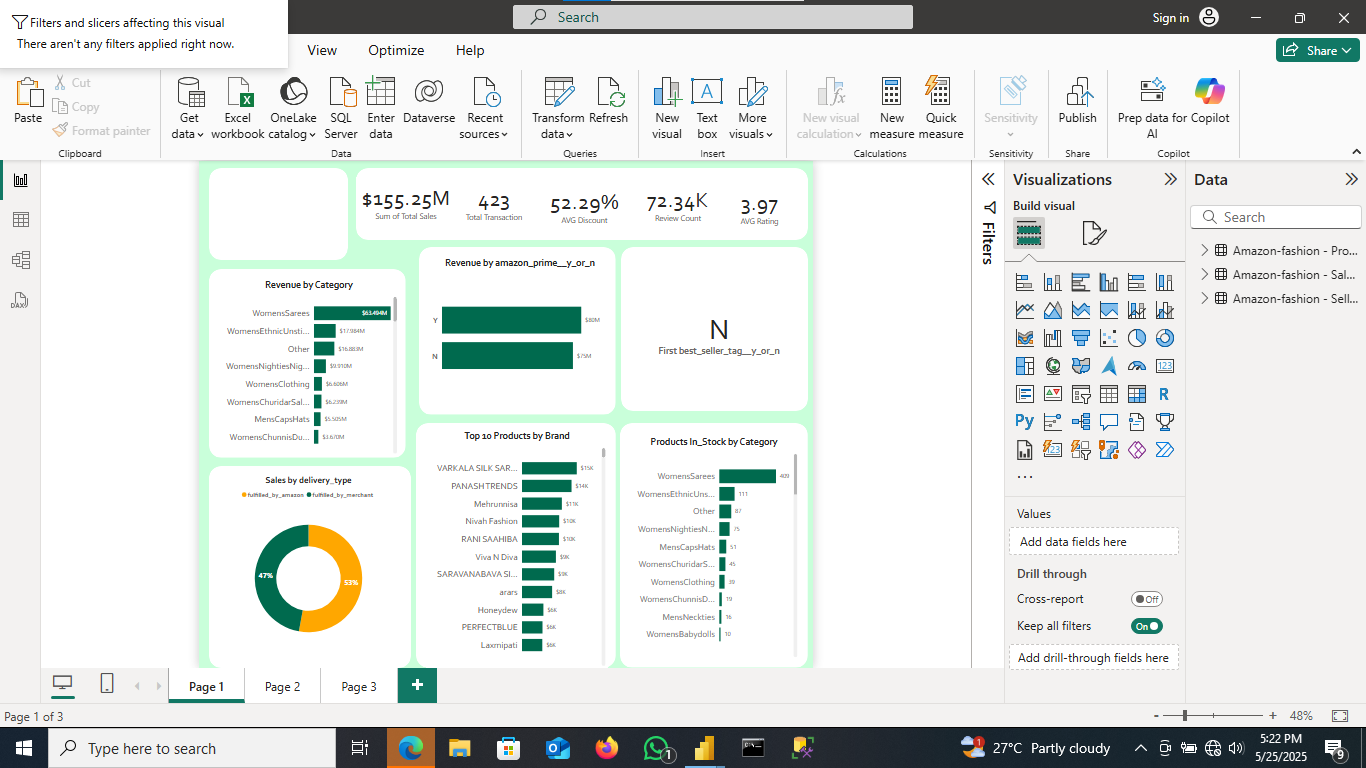

What the dashboard file says about the page in this screenshot:
{"tool":"powerbi","page":{"name":"Page 1","canvas":[1700,1020],"ordinal":0},"visuals":[{"type":"shape","box":[16.5,159,453.9,445.9],"z":0,"group":"g2"},{"type":"shape","box":[1155.3,563,531.9,444.2],"z":0,"group":"g6"},{"type":"shape","box":[12.8,617.8,482.6,389.4],"z":0},{"type":"shape","box":[764.1,21.9,923.1,117],"z":1000},{"type":"shape","box":[879.2,157.2,374.7,393],"z":1000,"group":"g4"},{"type":"clusteredBarChart","title":"Revenue by Category","fields":{"Category":["Amazon-fashion - Product Table (2).Category"],"Y":["Sum(Amazon-fashion - SalesTable (2).Total Sales)"]},"box":[37.8,182.1,418.5,418.2],"z":1000,"group":"g2"},{"type":"card","fields":{"Values":["Amazon-fashion - SalesTable (2).Total Transaction"]},"box":[1022.4,36.6,186.5,91.4],"z":2000},{"type":"group","id":"g1","title":"Group 4","box":[1270.4,159,416.8,382.1],"z":2000,"group":"g11"},{"type":"shape","box":[510,563,632.5,449.7],"z":2000,"group":"g10"},{"type":"shape","box":[38.1,293.1,375.5,144.6],"z":3000},{"type":"group","id":"g2","title":"Group 1","box":[16.5,159,462.5,446],"z":4000},{"type":"shape","box":[1270.4,159,416.8,382.2],"z":4000,"group":"g8"},{"type":"card","fields":{"Values":["Amazon-fashion - Product Table (2).AVG Discount"]},"box":[1458.7,36.6,213.9,91.4],"z":5000},{"type":"shape","box":[478.9,159,389.4,391.2],"z":5000,"group":"g3"},{"type":"group","id":"g3","title":"Group 5","box":[478.9,159,389.4,391.2],"z":6000},{"type":"clusteredBarChart","title":" Revenue by amazon_prime__y_or_n","fields":{"Category":["Amazon-fashion - SalesTable (2).amazon_prime__y_or_n"],"Y":["Sum(Amazon-fashion - SalesTable (2).Total Sales)"]},"box":[495,177.6,362.7,361.4],"z":6000,"group":"g3"},{"type":"barChart","title":" Products In_Stock by Category","fields":{"Category":["Amazon-fashion - Product Table (2).Category"],"Y":["Amazon-fashion - Product Table (2).Total Stock Left"]},"box":[1221.9,597.1,447.4,388.4],"z":6000,"group":"g6"},{"type":"group","id":"g4","title":"Group 6","box":[879.2,157.2,374.7,393],"z":7000},{"type":"group","id":"g5","title":"Group 11","box":[1155.3,563,531.9,444.2],"z":7001,"group":"g9"},{"type":"group","id":"g6","title":"Group 12","box":[1155.3,563,531.9,444.2],"z":7001,"group":"g5"},{"type":"group","id":"g7","title":"Group 7","box":[510,563,632.5,449.7],"z":8000},{"type":"group","id":"g8","title":"Group 8","box":[1270.4,159,416.8,382.2],"z":8002,"group":"g1"},{"type":"clusteredBarChart","title":"Sellers Efficiency by Revenue","fields":{"Y":["Sum(Amazon-fashion - SalesTable (2).Total Sales)"],"Category":["Amazon-fashion - Sellers Table (2).seller_name"]},"box":[1282.1,173.4,391.2,365.7],"z":9000,"group":"g11"},{"type":"donutChart","title":"Sales by delivery_type","fields":{"Category":["Amazon-fashion - Product Table (2).delivery_type"],"Y":["Amazon-fashion - SalesTable (2).Sum of Sales"]},"box":[886.6,179.1,361.9,358.3],"z":9000},{"type":"card","fields":{"Values":["Sum(Amazon-fashion - SalesTable (2).Total Sales)"]},"box":[775.1,36.6,221.2,89.6],"z":10000},{"type":"clusteredBarChart","title":"Top 10  Products by Brand","fields":{"Y":["Amazon-fashion - SalesTable (2).Sum of Sales"],"Category":["Amazon-fashion - Product Table (2).brand"]},"box":[541.6,575.2,575.6,437.5],"z":10000,"group":"g10"},{"type":"group","id":"g9","title":"Group 3","box":[1155.3,563,531.9,444.2],"z":11000},{"type":"textbox","box":[12.8,21.9,733,117],"z":12000},{"type":"group","id":"g10","title":"Group 10","box":[510,563,632.5,449.7],"z":12003,"group":"g7"},{"type":"clusteredBarChart","title":"Product performance by Total Review","fields":{"Category":["Amazon-fashion - Product Table (2).product_name"],"Y":["Sum(Amazon-fashion - SalesTable (2).no_of_reviews)"]},"box":[31.1,630.6,438.7,354.6],"z":13000},{"type":"group","id":"g11","title":"Group 13","box":[1270.4,159,416.8,382],"z":14000},{"type":"card","fields":{"Values":["Amazon-fashion - Product Table (2).AVG Sales per Transaction"]},"box":[1226.6,36.6,206.6,91.4],"z":15000}]}

Visuals, with their boxes on the page's 1700x1020 design canvas (x1, y1, x2, y2). These are canvas units, not pixel positions in the 1366x768 screenshot, which may show the page scaled, cropped or inside an application window:
shape: select_region(16, 159, 470, 605)
shape: select_region(1155, 563, 1687, 1007)
shape: select_region(13, 618, 495, 1007)
shape: select_region(764, 22, 1687, 139)
shape: select_region(879, 157, 1254, 550)
"Revenue by Category" clusteredBarChart: select_region(38, 182, 456, 600)
card - Amazon-fashion - SalesTable (2).Total Transaction: select_region(1022, 37, 1209, 128)
"Group 4" group: select_region(1270, 159, 1687, 541)
shape: select_region(510, 563, 1142, 1013)
shape: select_region(38, 293, 414, 438)
"Group 1" group: select_region(16, 159, 479, 605)
shape: select_region(1270, 159, 1687, 541)
card - Amazon-fashion - Product Table (2).AVG Discount: select_region(1459, 37, 1673, 128)
shape: select_region(479, 159, 868, 550)
"Group 5" group: select_region(479, 159, 868, 550)
" Revenue by amazon_prime__y_or_n" clusteredBarChart: select_region(495, 178, 858, 539)
" Products In_Stock by Category" barChart: select_region(1222, 597, 1669, 986)
"Group 6" group: select_region(879, 157, 1254, 550)
"Group 11" group: select_region(1155, 563, 1687, 1007)
"Group 12" group: select_region(1155, 563, 1687, 1007)
"Group 7" group: select_region(510, 563, 1142, 1013)
"Group 8" group: select_region(1270, 159, 1687, 541)
"Sellers Efficiency by Revenue" clusteredBarChart: select_region(1282, 173, 1673, 539)
"Sales by delivery_type" donutChart: select_region(887, 179, 1248, 537)
card - Sum(Amazon-fashion - SalesTable (2).Total Sales): select_region(775, 37, 996, 126)
"Top 10  Products by Brand" clusteredBarChart: select_region(542, 575, 1117, 1013)
"Group 3" group: select_region(1155, 563, 1687, 1007)
textbox: select_region(13, 22, 746, 139)
"Group 10" group: select_region(510, 563, 1142, 1013)
"Product performance by Total Review" clusteredBarChart: select_region(31, 631, 470, 985)
"Group 13" group: select_region(1270, 159, 1687, 541)
card - Amazon-fashion - Product Table (2).AVG Sales per Transaction: select_region(1227, 37, 1433, 128)
